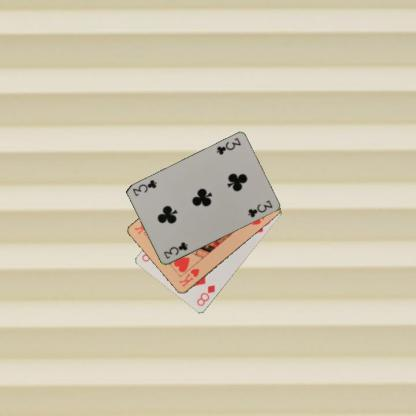3c: (214, 135, 242, 157), (161, 240, 189, 260)
8d: (194, 283, 216, 308)
Kh: (176, 266, 201, 288)
